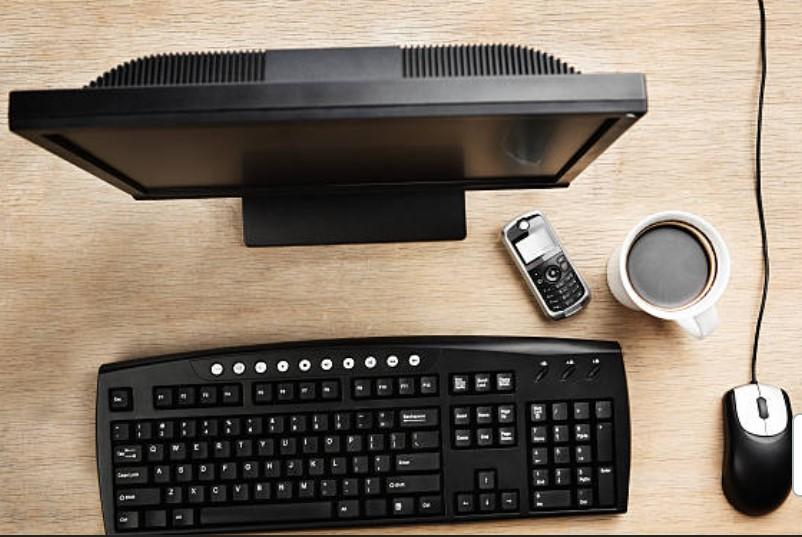computer mouse: (720, 383, 798, 519)
